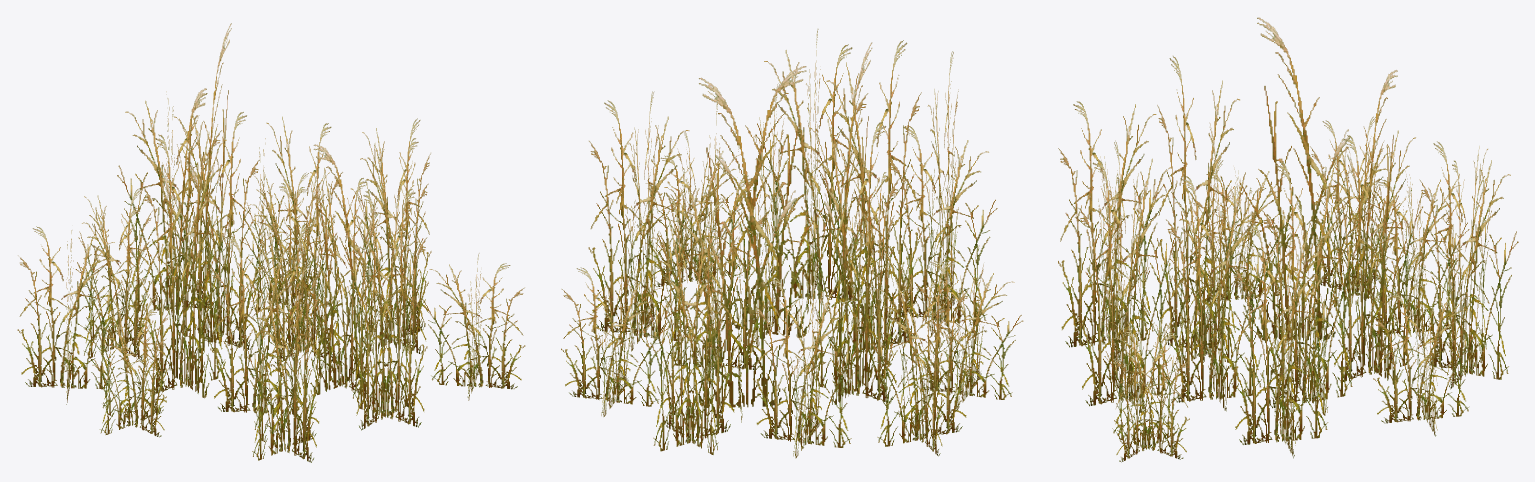
File: grs_weed06_1.glb
3 renders of one model, left to right at view 1: azimuth 30°, elevation 25°; view 2: azimuth 150°, elevation 25°; view 3: azimuth 270°, elevation 25°, orthographic. The views are drawn at different scales.
Parts seen in each view (by area): view 1: grs_weed06_1; view 2: grs_weed06_1; view 3: grs_weed06_1.
Boxes of the visible parts, x1,y1,x2,y2 form: grs_weed06_1: (17,23,525,462); grs_weed06_1: (561,29,1023,458); grs_weed06_1: (1058,17,1518,462).
Size of the model in its own units: 4.54 by 3.58 by 4.63.
Materials: 1 (1 with a texture image).
